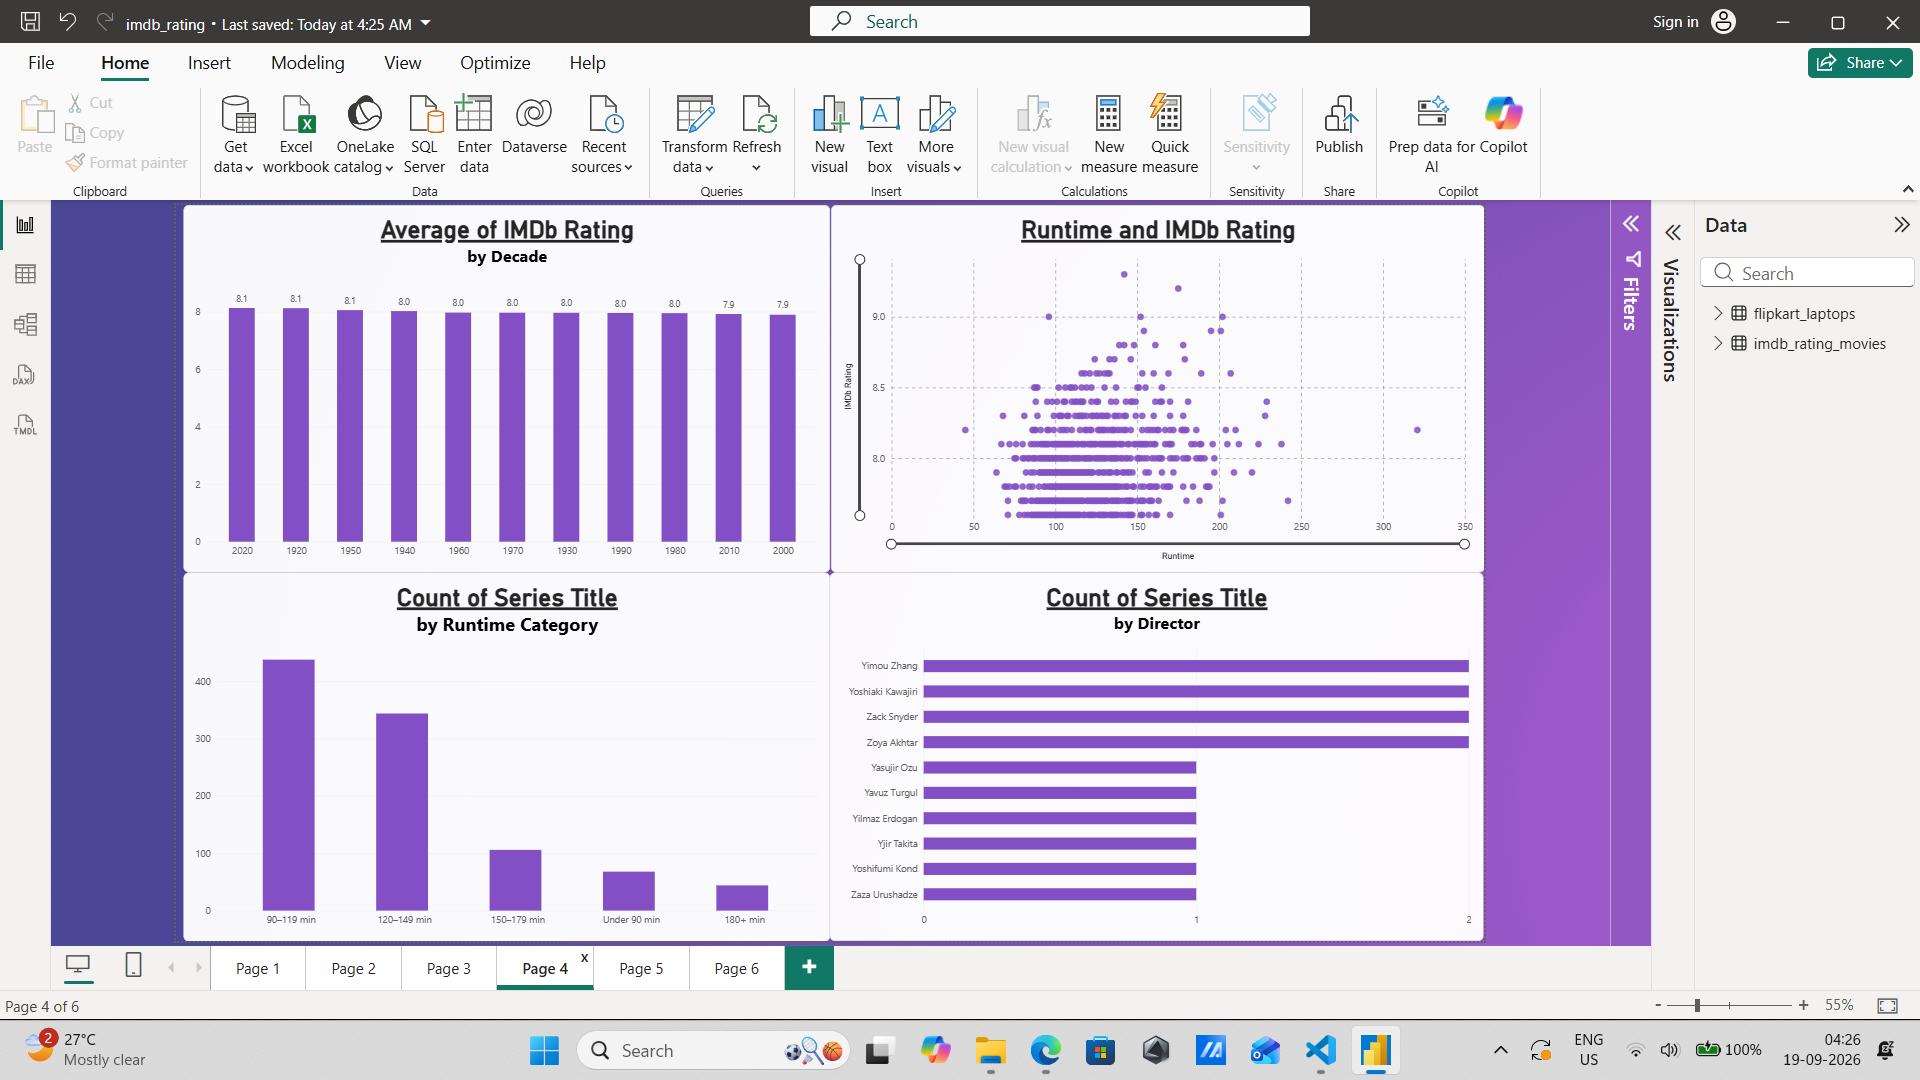

The page's visual inventory and layout, read from the dashboard file:
{"tool":"powerbi","page":{"name":"Page 4","canvas":[1920,1080],"ordinal":3},"visuals":[{"type":"clusteredColumnChart","fields":{"Category":["imdb_top_1000_movies_20260911_205646 (2).Decade"],"Y":["Avg(imdb_top_1000_movies_20260911_205646 (2).IMDb Rating)"]},"box":[10.3,0,948.9,539.3],"z":0},{"type":"clusteredColumnChart","fields":{"Category":["imdb_top_1000_movies_20260911_205646 (2).Runtime Category"],"Y":["CountNonNull(imdb_top_1000_movies_20260911_205646 (2).Series Title)"]},"box":[10.3,539.3,948.9,541.3],"z":1},{"type":"scatterChart","fields":{"X":["Sum(imdb_top_1000_movies_20260911_205646 (2).Runtime)"],"Y":["Sum(imdb_top_1000_movies_20260911_205646 (2).IMDb Rating)"]},"box":[961.2,0,959.2,539.3],"z":2},{"type":"clusteredBarChart","fields":{"Category":["imdb_top_1000_movies_20260911_205646 (2).Director"],"Y":["CountNonNull(imdb_top_1000_movies_20260911_205646 (2).Series Title)"]},"box":[959,539,959,541],"z":3}]}

Visuals, with their boxes on the page's 1920x1080 design canvas (x1, y1, x2, y2). These are canvas units, not pixel positions in the 1920x1080 screenshot, which may show the page scaled, cropped or inside an application window:
clusteredColumnChart - imdb_top_1000_movies_20260911_205646 (2).Decade x Avg(imdb_top_1000_movies_20260911_205646 (2).IMDb Rating): [10,0,959,539]
clusteredColumnChart - imdb_top_1000_movies_20260911_205646 (2).Runtime Category x CountNonNull(imdb_top_1000_movies_20260911_205646 (2).Series Title): [10,539,959,1081]
scatterChart - Sum(imdb_top_1000_movies_20260911_205646 (2).Runtime) x Sum(imdb_top_1000_movies_20260911_205646 (2).IMDb Rating): [961,0,1920,539]
clusteredBarChart - imdb_top_1000_movies_20260911_205646 (2).Director x CountNonNull(imdb_top_1000_movies_20260911_205646 (2).Series Title): [959,539,1918,1080]
